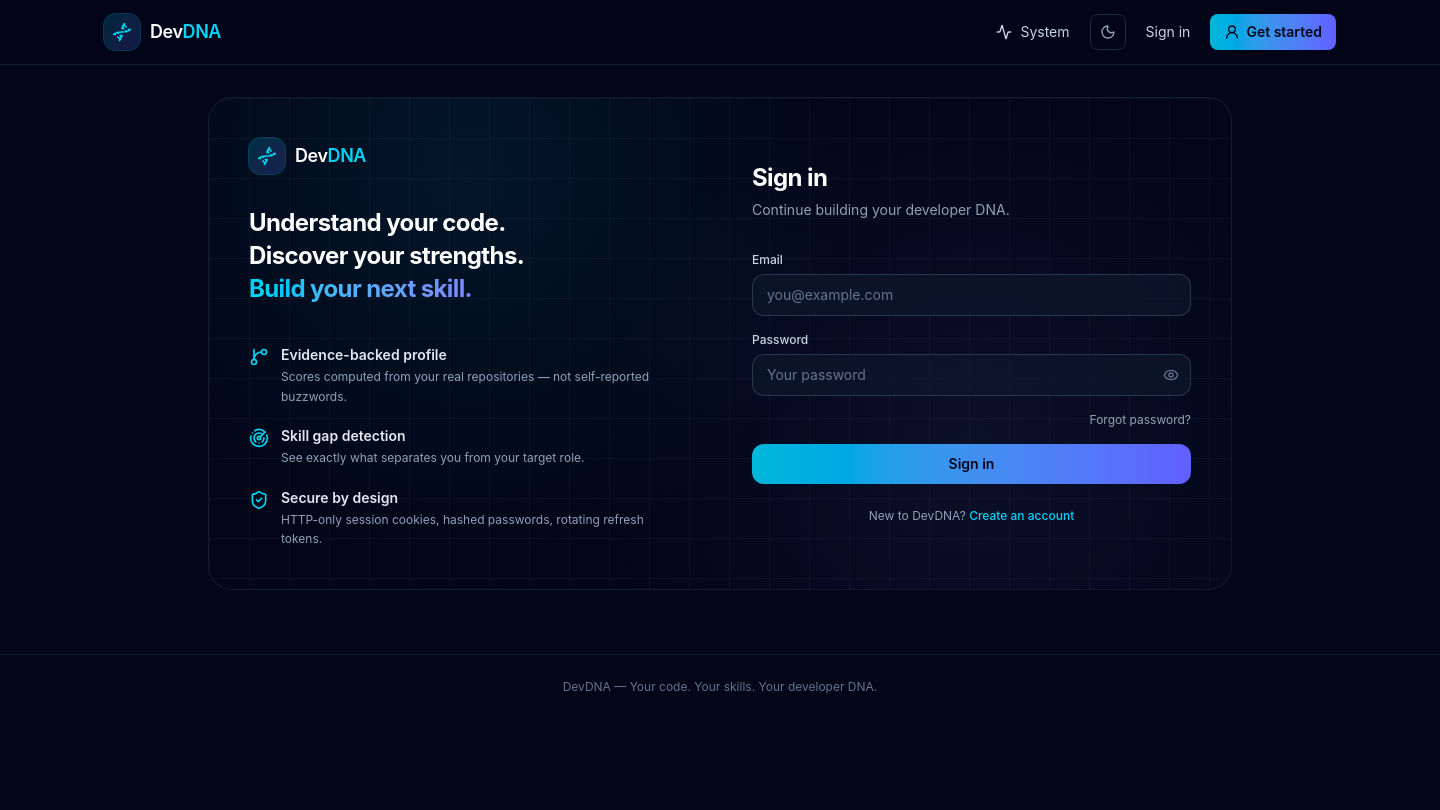
Test case: login form › shows validation errors without submitting
The width and height of the screenshot is (1440, 810).
Step 1. Click the button "Sign in" → {"x": 972, "y": 464}, box [752,444,1191,484]
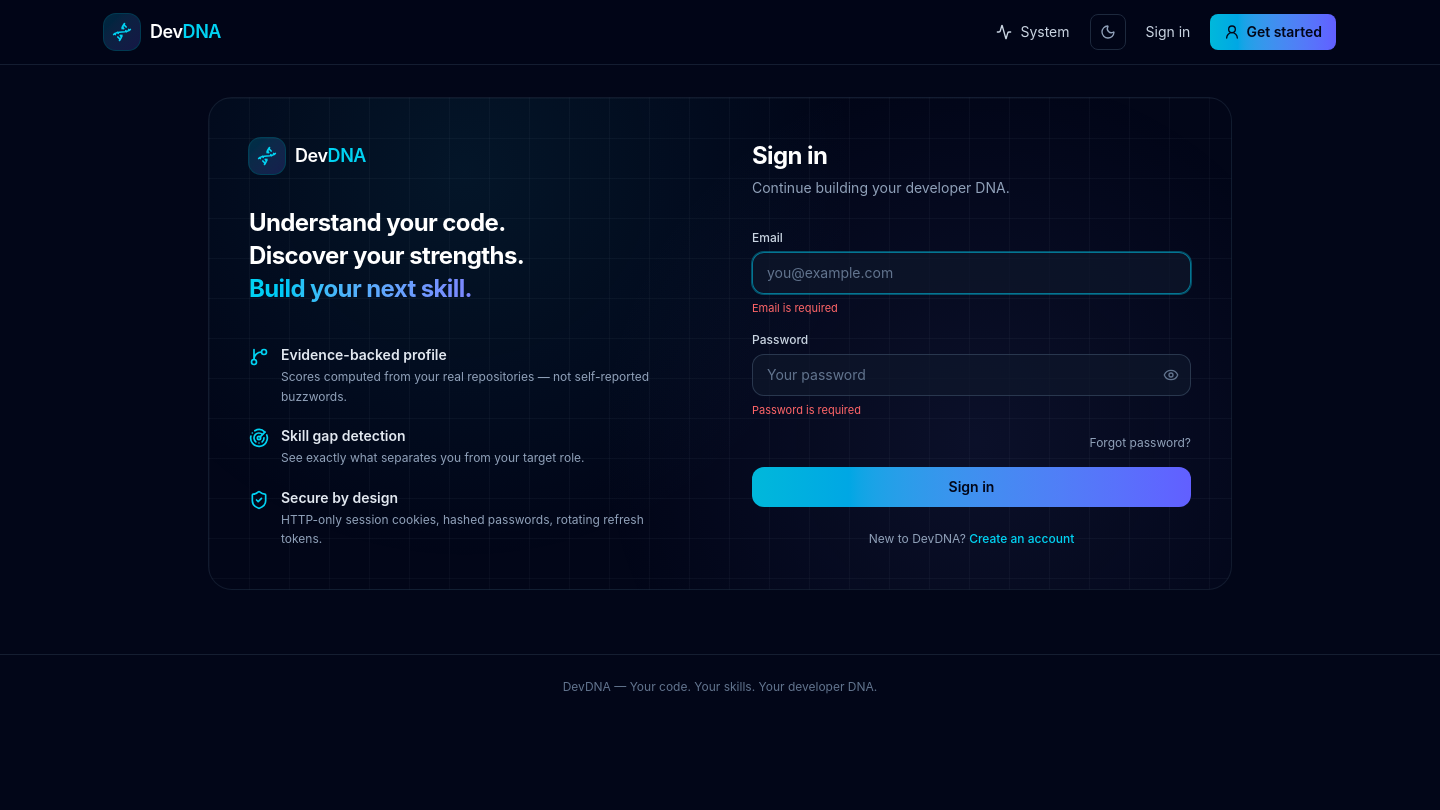
Expected: the text "Email is required" is shown, [752,301,838,315]
Expected: the text "Password is required" is shown, [752,403,861,417]
